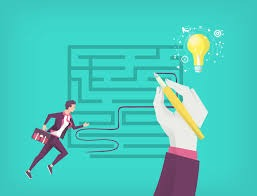maze: (69, 46, 153, 100), (91, 103, 152, 155)
